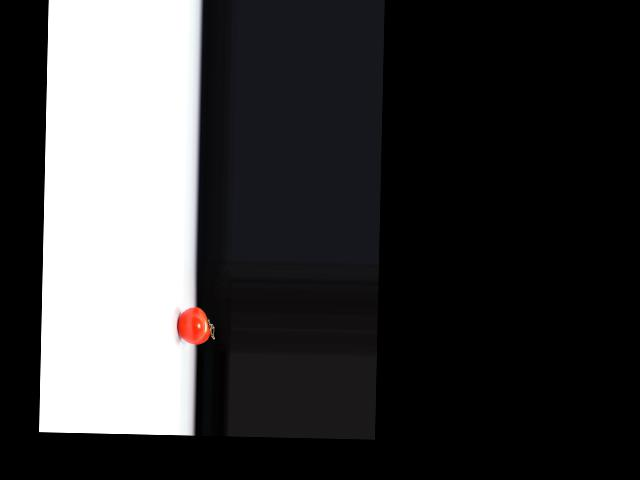tomato: (177, 306, 210, 344)
